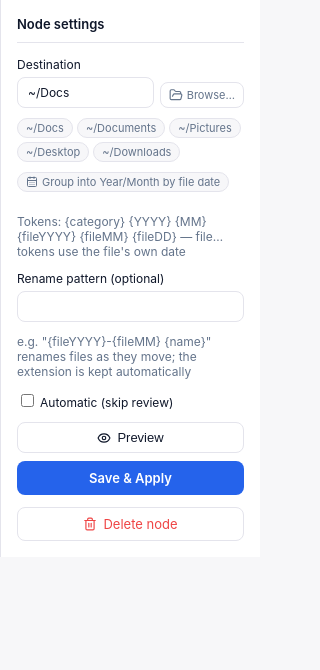
ConfigPanel › shows watch-overlap warnings after Save & Apply
Click the button "Save & Apply": (130, 478) [17,461,244,495]
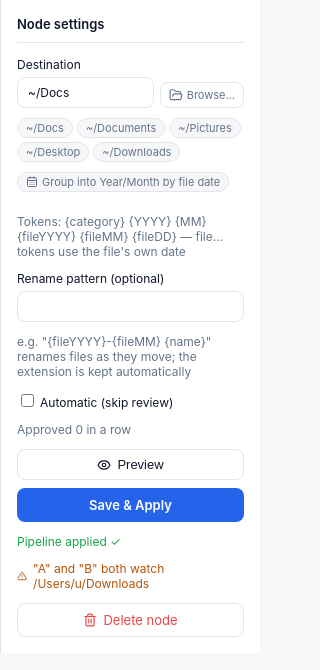
Expected: the text "\"A\" and \"B\" both watch /Users/u/Downloads" is shown, [17,561,164,591]
